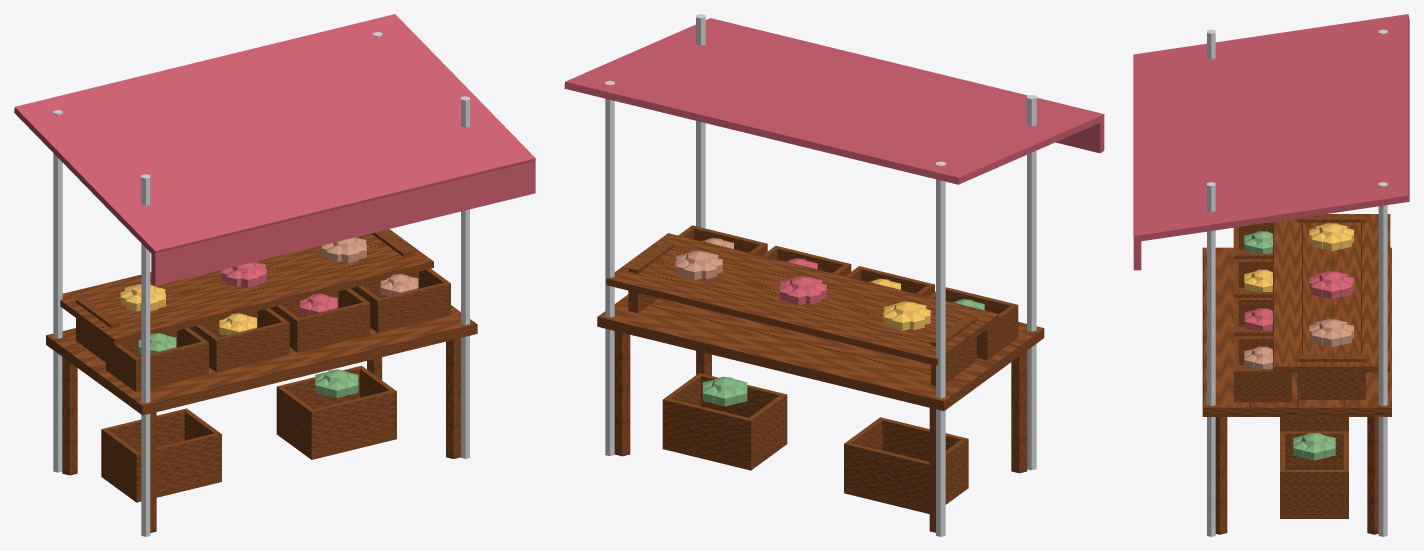
The model's file is fruit_stand.glb.
3 views of the same model, side by side, from view 1: azimuth 30°, elevation 25°; view 2: azimuth 150°, elevation 25°; view 3: azimuth 270°, elevation 25° (orthographic). The views are drawn at different scales.
Visible parts, largest first — view 1: fruit-and-vegetable-stall-crimson, fruit-and-vegetable-stall-timber, fruit-and-vegetable-stall-steel, fruit-and-vegetable-stall-terracotta, fruit-and-vegetable-stall-leaf, fruit-and-vegetable-stall-saffron; view 2: fruit-and-vegetable-stall-timber, fruit-and-vegetable-stall-crimson, fruit-and-vegetable-stall-steel, fruit-and-vegetable-stall-saffron, fruit-and-vegetable-stall-terracotta, fruit-and-vegetable-stall-leaf; view 3: fruit-and-vegetable-stall-crimson, fruit-and-vegetable-stall-timber, fruit-and-vegetable-stall-steel, fruit-and-vegetable-stall-saffron, fruit-and-vegetable-stall-terracotta, fruit-and-vegetable-stall-leaf.
Part boxes in pixels (x1=…): fruit-and-vegetable-stall-crimson: x1=14, y1=14, x2=535, y2=315; fruit-and-vegetable-stall-timber: x1=46, y1=229, x2=477, y2=532; fruit-and-vegetable-stall-steel: x1=53, y1=32, x2=469, y2=536; fruit-and-vegetable-stall-terracotta: x1=321, y1=237, x2=418, y2=296; fruit-and-vegetable-stall-leaf: x1=138, y1=333, x2=358, y2=397; fruit-and-vegetable-stall-saffron: x1=120, y1=284, x2=256, y2=335; fruit-and-vegetable-stall-timber: x1=597, y1=225, x2=1044, y2=532; fruit-and-vegetable-stall-crimson: x1=564, y1=18, x2=1104, y2=305; fruit-and-vegetable-stall-steel: x1=605, y1=14, x2=1036, y2=536; fruit-and-vegetable-stall-saffron: x1=869, y1=278, x2=930, y2=330; fruit-and-vegetable-stall-terracotta: x1=675, y1=238, x2=733, y2=279; fruit-and-vegetable-stall-leaf: x1=702, y1=299, x2=984, y2=406; fruit-and-vegetable-stall-crimson: x1=1133, y1=14, x2=1409, y2=330; fruit-and-vegetable-stall-timber: x1=1202, y1=214, x2=1391, y2=534; fruit-and-vegetable-stall-steel: x1=1207, y1=29, x2=1387, y2=536; fruit-and-vegetable-stall-saffron: x1=1244, y1=223, x2=1353, y2=291; fruit-and-vegetable-stall-terracotta: x1=1244, y1=319, x2=1353, y2=368; fruit-and-vegetable-stall-leaf: x1=1244, y1=231, x2=1335, y2=460.
Size of the model in its own units: 2.5 by 2.27 by 1.61.
6 materials, 1 textured.
